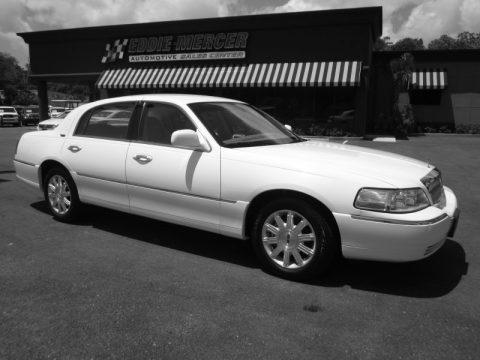car: (13, 95, 462, 279)
